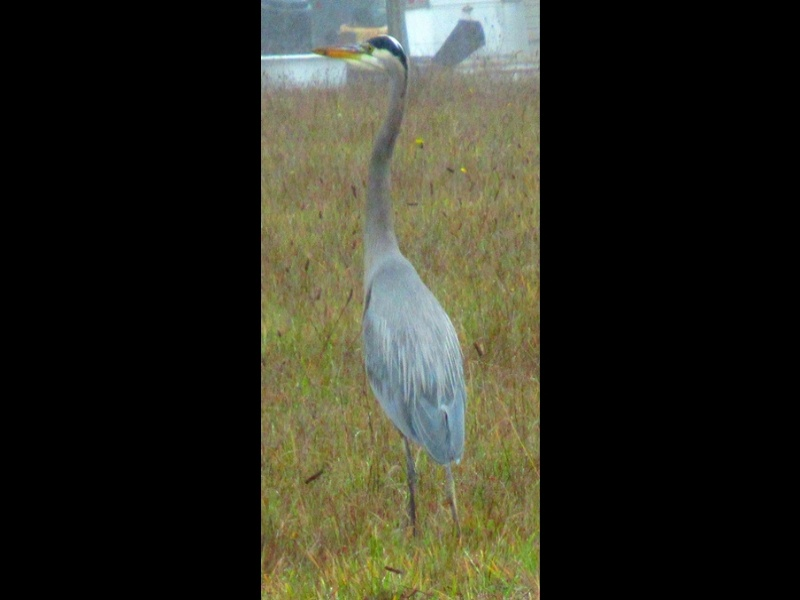heron: (310, 34, 471, 552)
